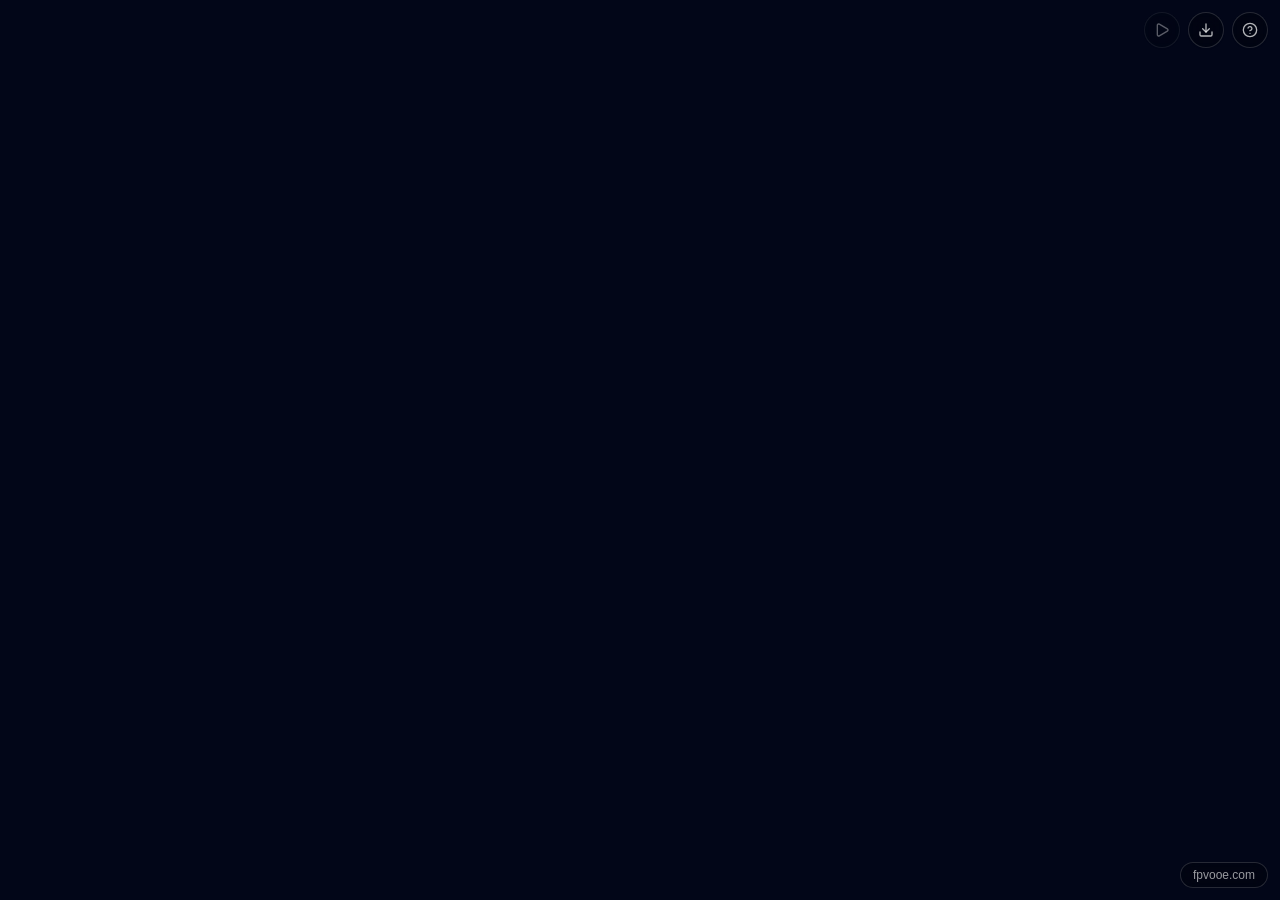
Test: ViewerApp › opens viewer help from the help button
Click the button named "Viewer-Hilfe öffnen". click: (1250, 30)
box: x1=1232 y1=12 x2=1268 y2=48
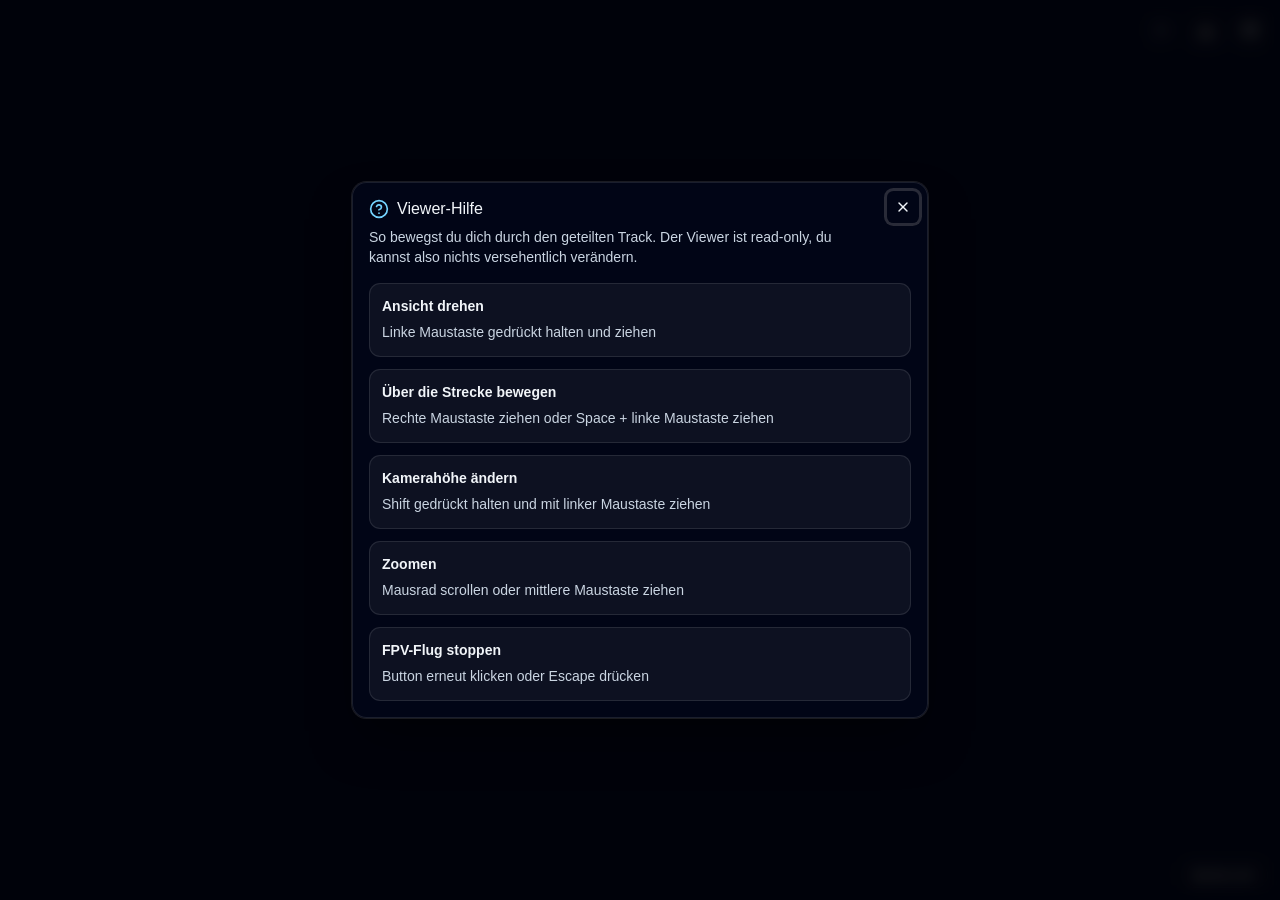
Check: the heading "Viewer-Hilfe" is shown, box x1=369 y1=199 x2=483 y2=219
